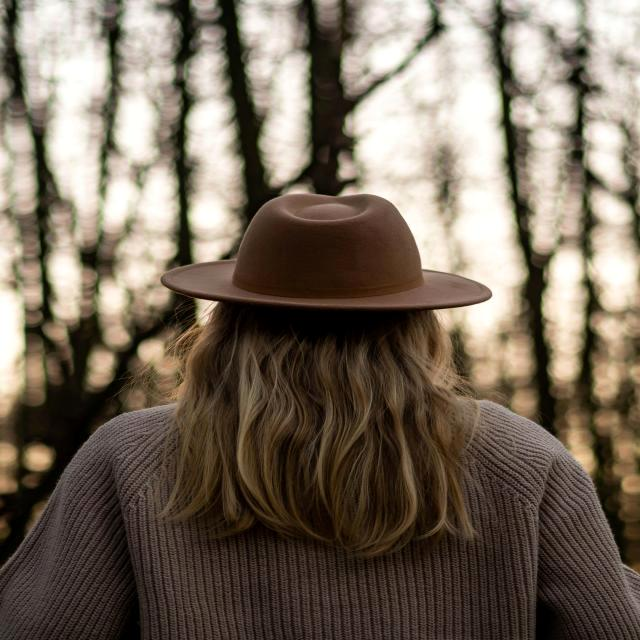no_hard_hat: (161, 194, 491, 311)
person: (2, 194, 640, 640)
